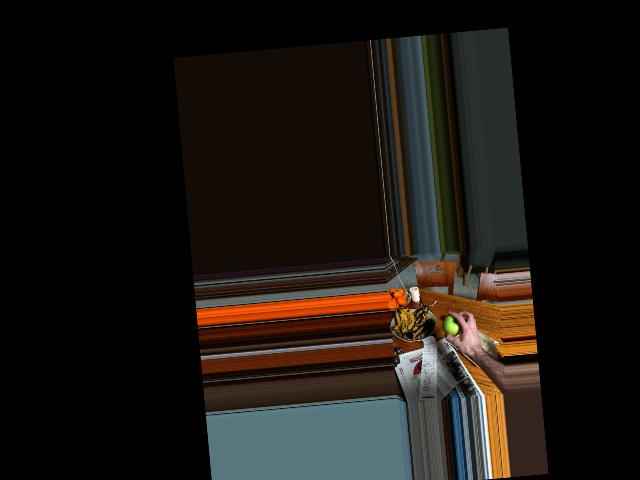apple: (442, 309, 467, 341)
